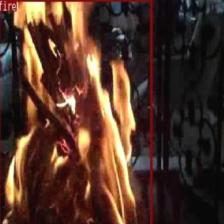fire: (0, 0, 152, 224)
